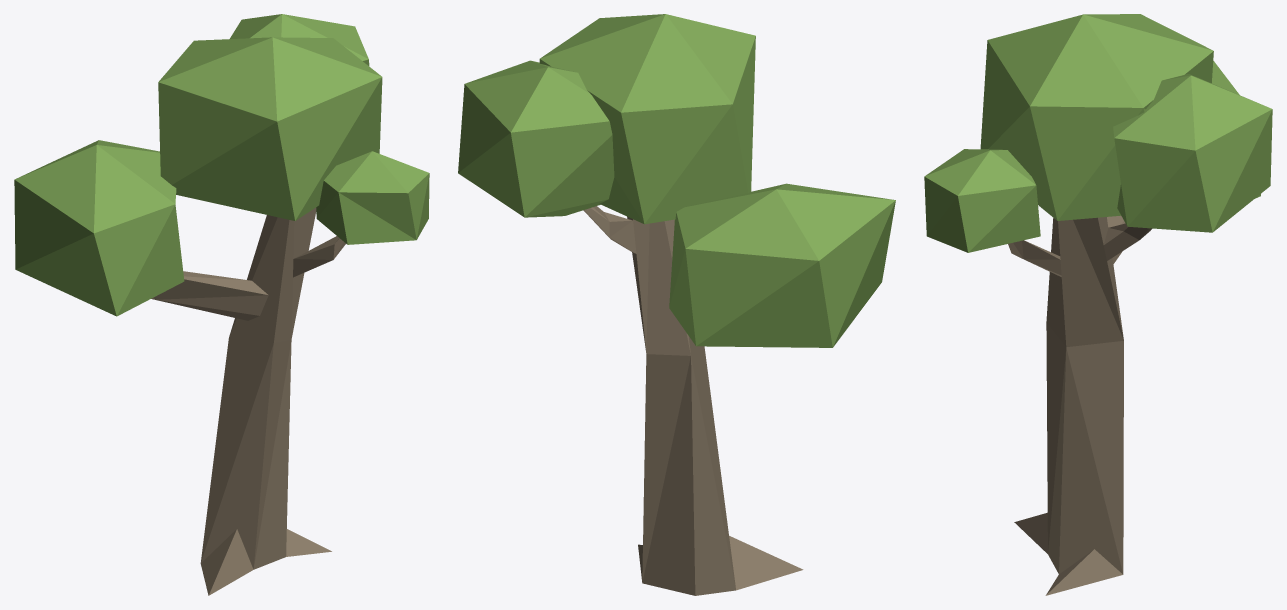
Rendered from tree02.fbx.
3 views of the same model, side by side, from view 1: azimuth 30°, elevation 25°; view 2: azimuth 150°, elevation 25°; view 3: azimuth 270°, elevation 25° (orthographic). The views are drawn at different scales.
Visible parts, largest first — view 1: Model; view 2: Model; view 3: Model.
Part boxes in pixels (bbox=[...]): Model: bbox=[14, 14, 429, 595]; Model: bbox=[458, 14, 895, 595]; Model: bbox=[924, 14, 1272, 595].
Size of the model in its own units: 3.78 by 5.45 by 3.08.
